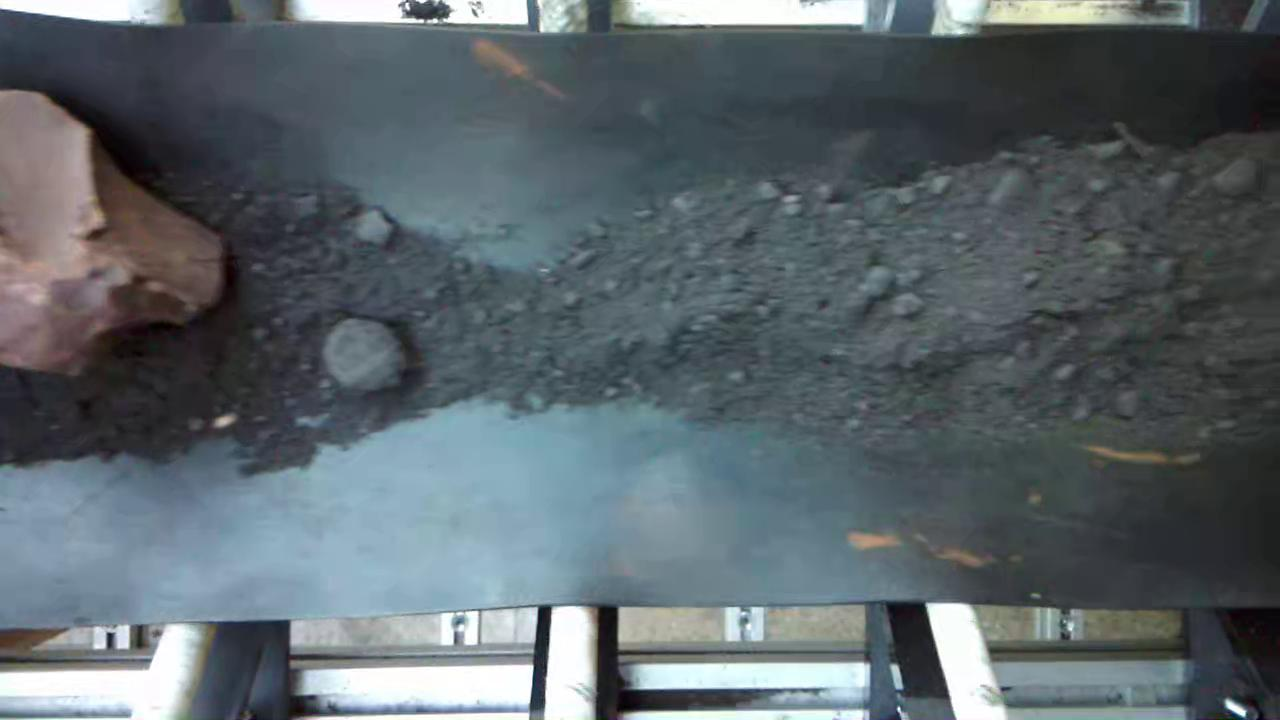conveyor: (1, 35, 1280, 587)
